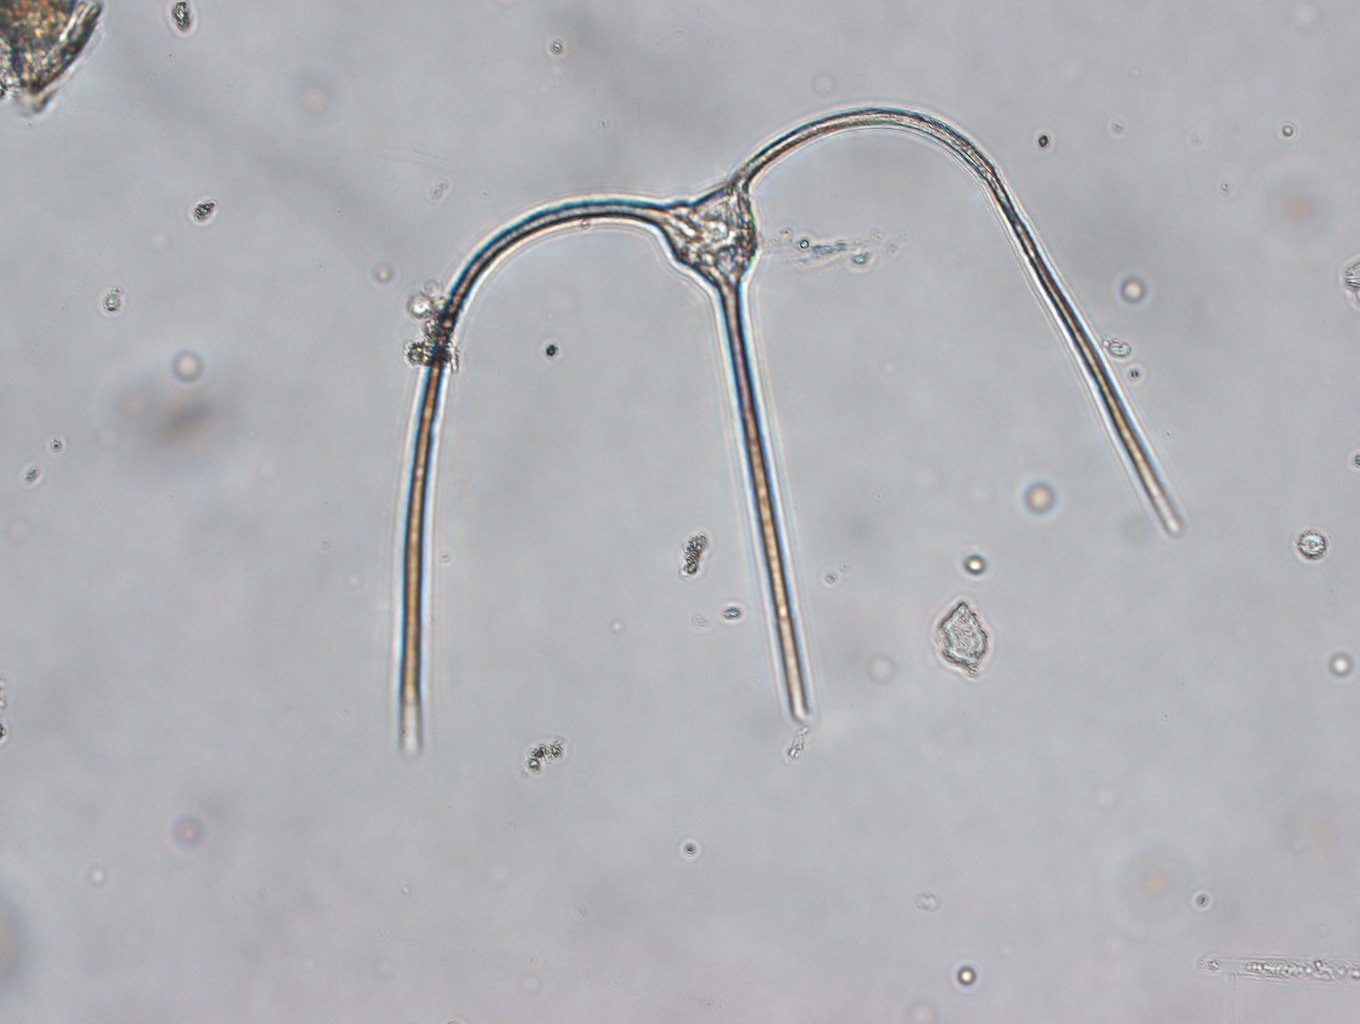ceratium trichoceros: (376, 99, 1196, 772)
